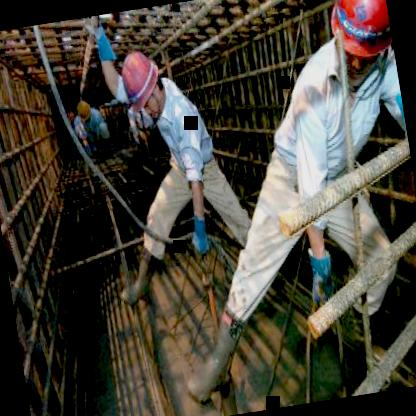helmet: (321, 0, 395, 68), (116, 45, 172, 125), (75, 96, 95, 124)
